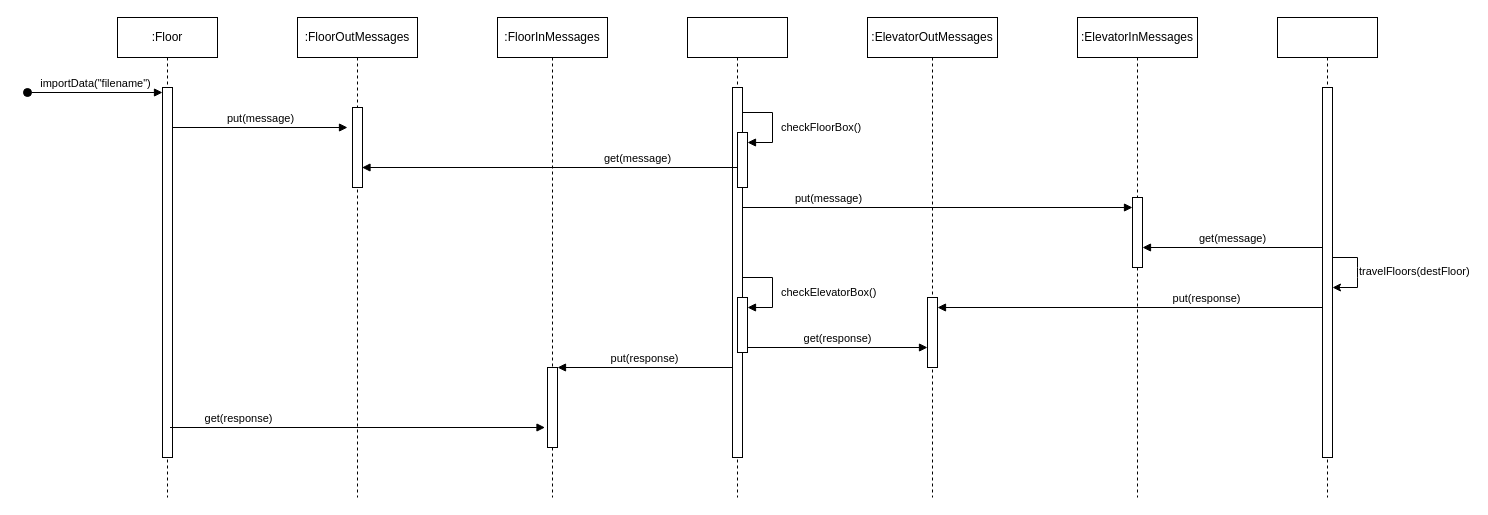
Some shapes in this 1488 by 515 pixel diagram are drawn without their labels. Each missing label, with the box of its shape:
:Elevator: (1276, 16, 1378, 498)
:Scheduler: (686, 16, 788, 498)
